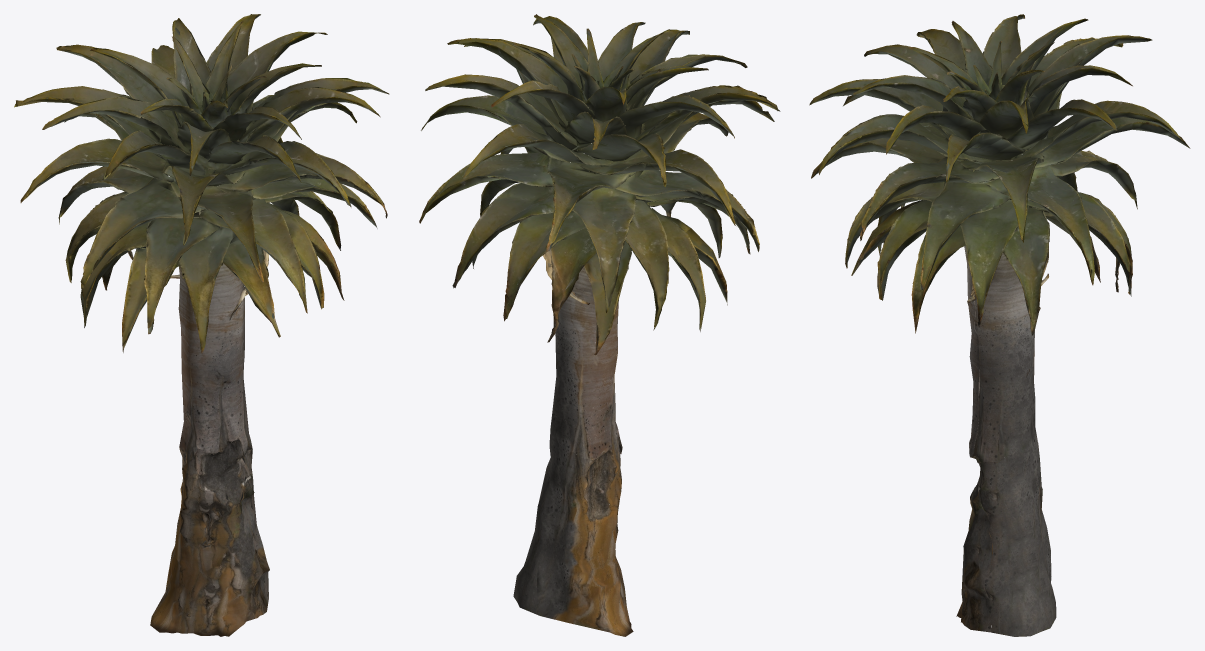
File: QuiverTreeB.glb
The picture shows the model from 3 angles, left to right: view 1: azimuth 30°, elevation 25°; view 2: azimuth 150°, elevation 25°; view 3: azimuth 270°, elevation 25°; orthographic projection.
Visible parts, largest first — view 1: QuiverTreeB; view 2: QuiverTreeB; view 3: QuiverTreeB.
Part boxes in pixels (box(x1,y1,x2,y2)): QuiverTreeB: box(14, 14, 389, 636); QuiverTreeB: box(419, 14, 780, 636); QuiverTreeB: box(809, 14, 1190, 636).
Bounding box in the file's own units: 0.8705 × 1.47 × 0.8784.
1 material, 1 textured.
